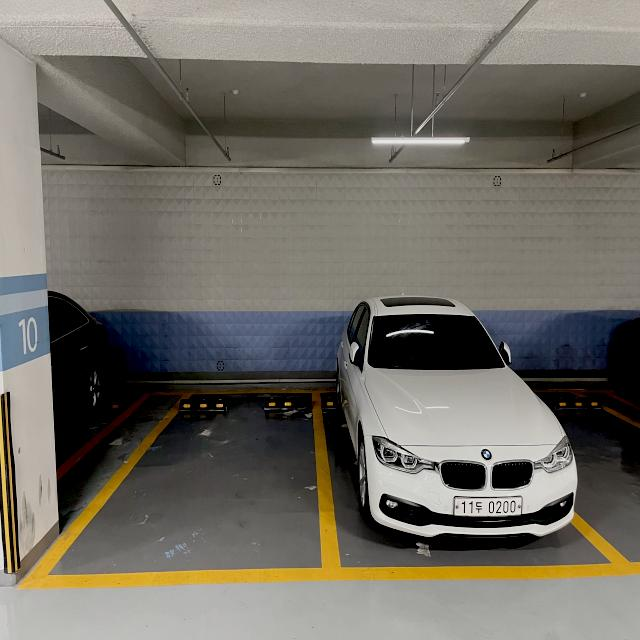empty: (21, 396, 323, 594)
occupied: (342, 282, 566, 553)
